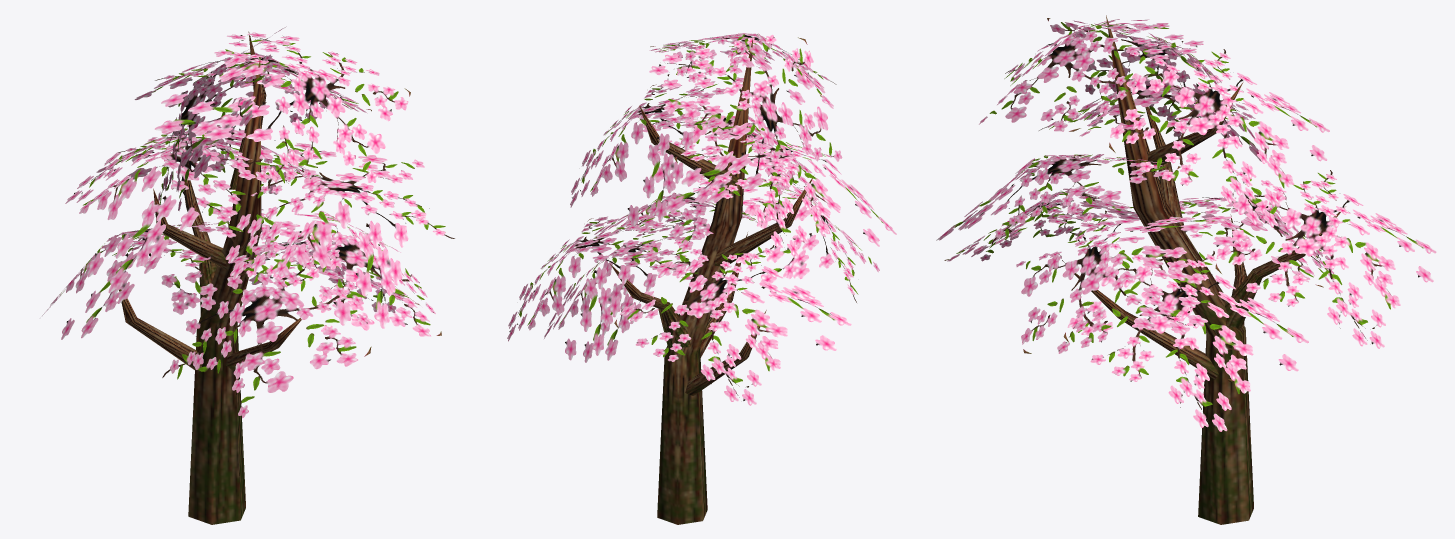
Rendered from PeachTree.FBX.
3 renders of one model, left to right at view 1: azimuth 30°, elevation 25°; view 2: azimuth 150°, elevation 25°; view 3: azimuth 270°, elevation 25°, orthographic. The views are drawn at different scales.
Visible parts, largest first — view 1: Cylinder30; view 2: Cylinder30; view 3: Cylinder30.
Boxes of the visible parts, x1,y1,x2,y2 form: Cylinder30: (42,26,454,524); Cylinder30: (507,33,896,524); Cylinder30: (936,15,1436,524).
Size of the model in its own units: 400 by 547 by 498.
